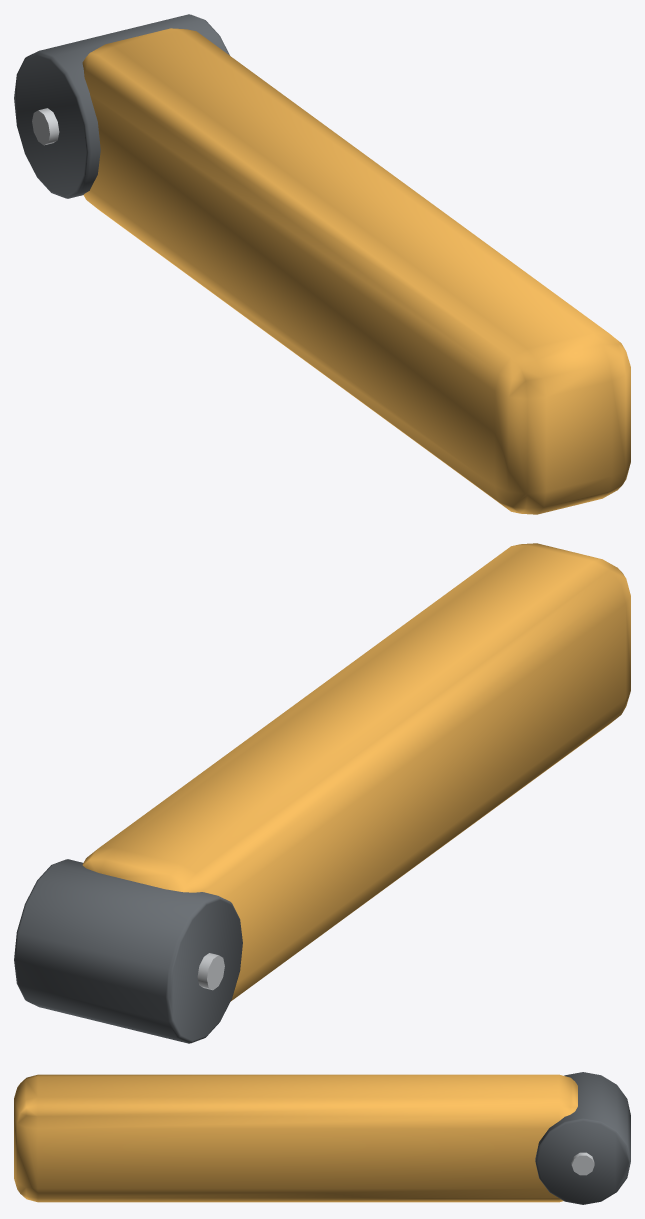
The model's file is exc_boom.glb.
3 renders of one model, top to bottom at view 1: azimuth 30°, elevation 25°; view 2: azimuth 150°, elevation 25°; view 3: azimuth 270°, elevation 25°, orthographic. The views are drawn at different scales.
Parts seen in each view (by area): view 1: Body; view 2: Body; view 3: Body.
Boxes of the visible parts, box(x1,y1,x2,y2) form: Body: box(14, 14, 630, 514); Body: box(14, 543, 630, 1043); Body: box(14, 1072, 630, 1204).
Size of the model in its own units: 0.56 by 0.5 by 2.71.
